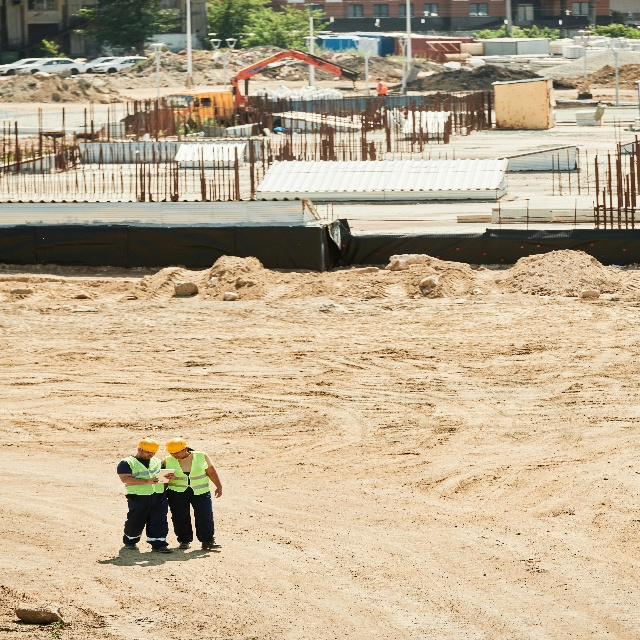Sin_guantes: (165, 472, 177, 482), (214, 487, 223, 500), (149, 477, 159, 485)
